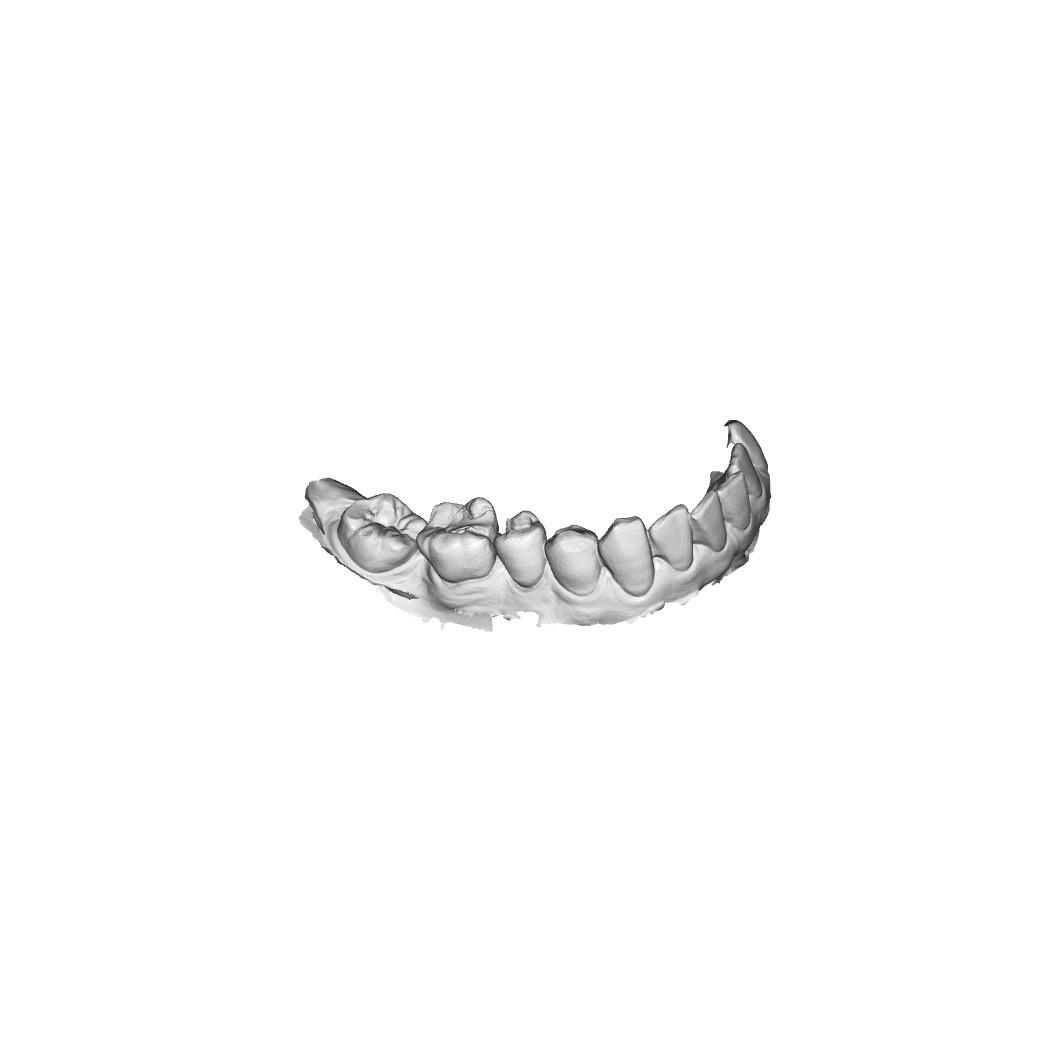canine: (600, 516, 659, 603)
incisor: (650, 506, 696, 572), (693, 493, 731, 548), (718, 476, 755, 525)
molar: (339, 493, 421, 575), (421, 500, 497, 578)
premolar: (547, 523, 604, 603), (497, 510, 551, 590)
